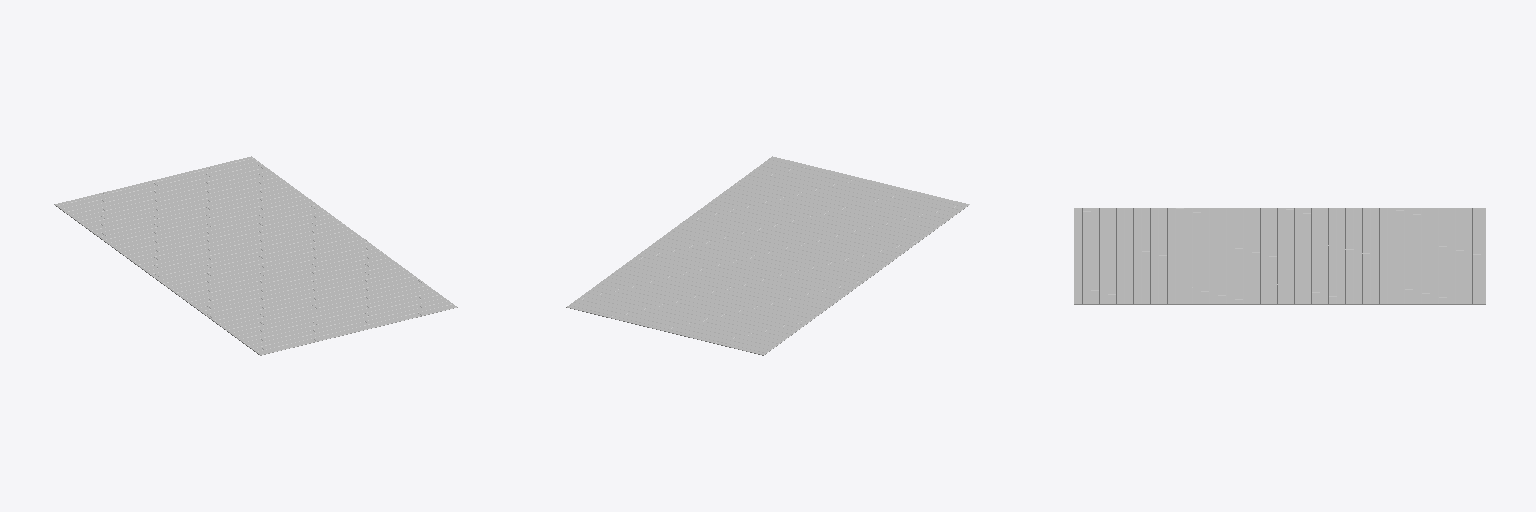
The model's file is Floor.obj.
3 views of the same model, side by side, from view 1: azimuth 30°, elevation 25°; view 2: azimuth 150°, elevation 25°; view 3: azimuth 270°, elevation 25° (orthographic).
Parts seen in each view (by area): view 1: Plane001; view 2: Plane001; view 3: Plane001.
Part boxes in pixels (x1,y1,x2,y2): Plane001: (54, 156, 457, 355); Plane001: (566, 156, 969, 355); Plane001: (1074, 208, 1485, 304).
Size of the model in its own units: 94.13 by 0.3145 by 170.